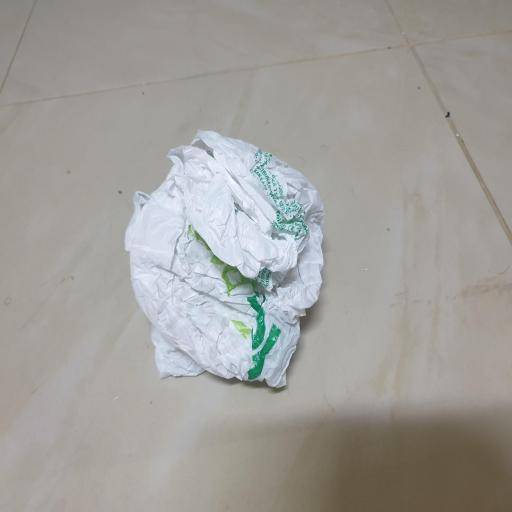plastic bag: (120, 123, 328, 397)
